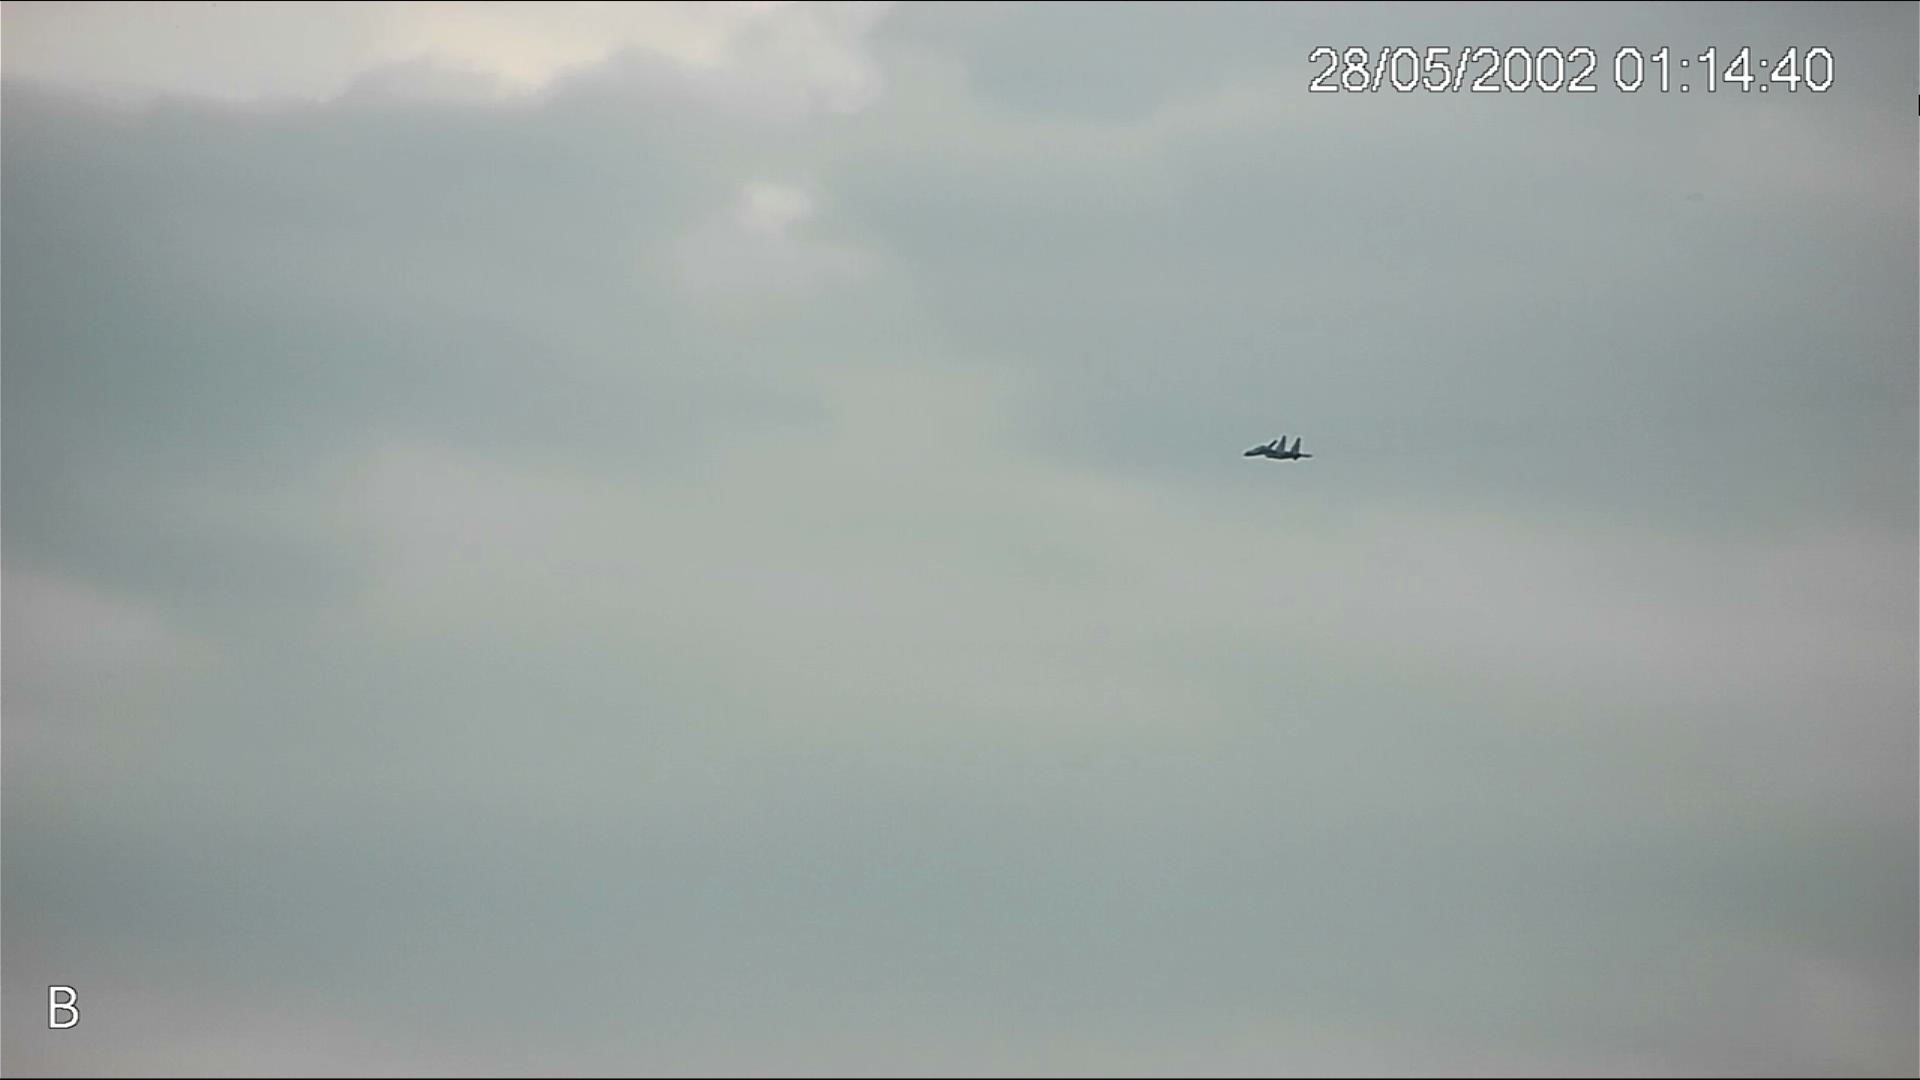SU_30: (1240, 433, 1313, 467)
